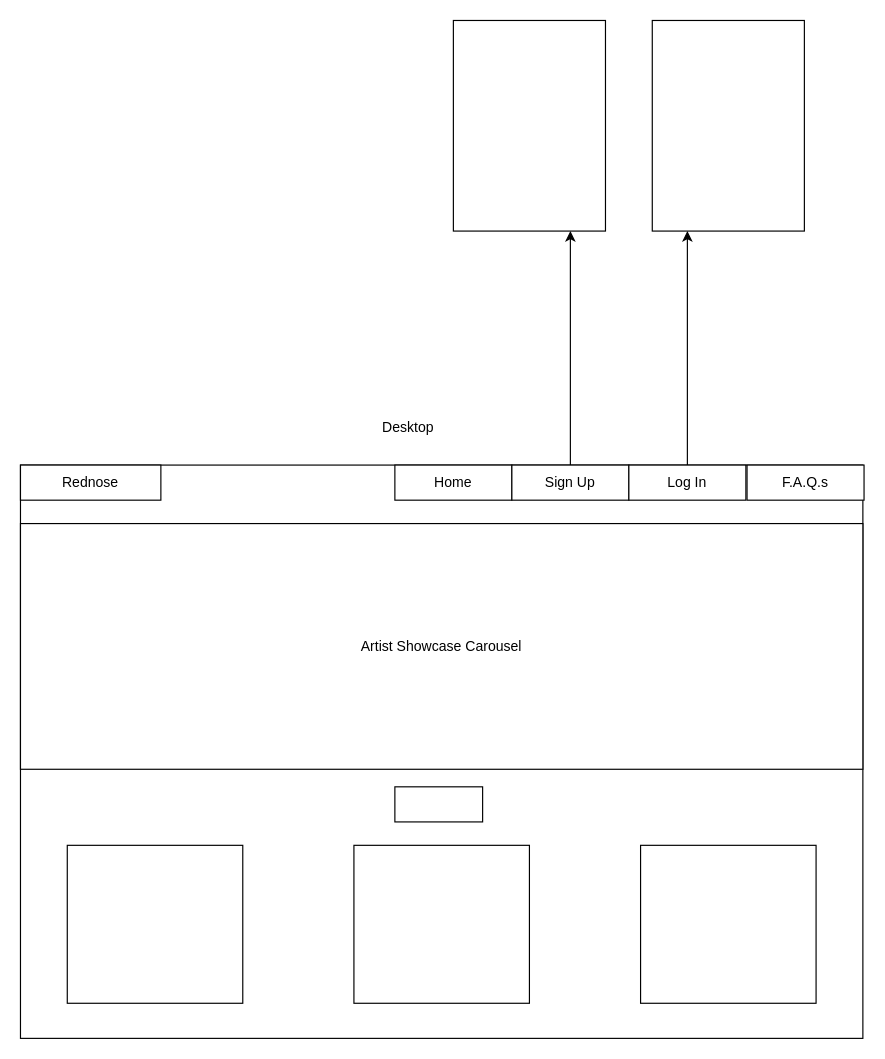
This 885x1059 diagram has some shape labels left out. The centre of each missing label's shape, as x and y in pixels:
Log In Modal: point 727,125
Sign Up Modal: point 528,125
Who we are: point 438,804
